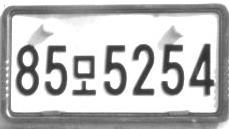2: (131, 43, 155, 96)
4: (188, 43, 214, 96)
5: (160, 43, 185, 96), (103, 44, 127, 96), (44, 44, 68, 95)
8: (15, 44, 40, 96)
모: (71, 55, 97, 96)
